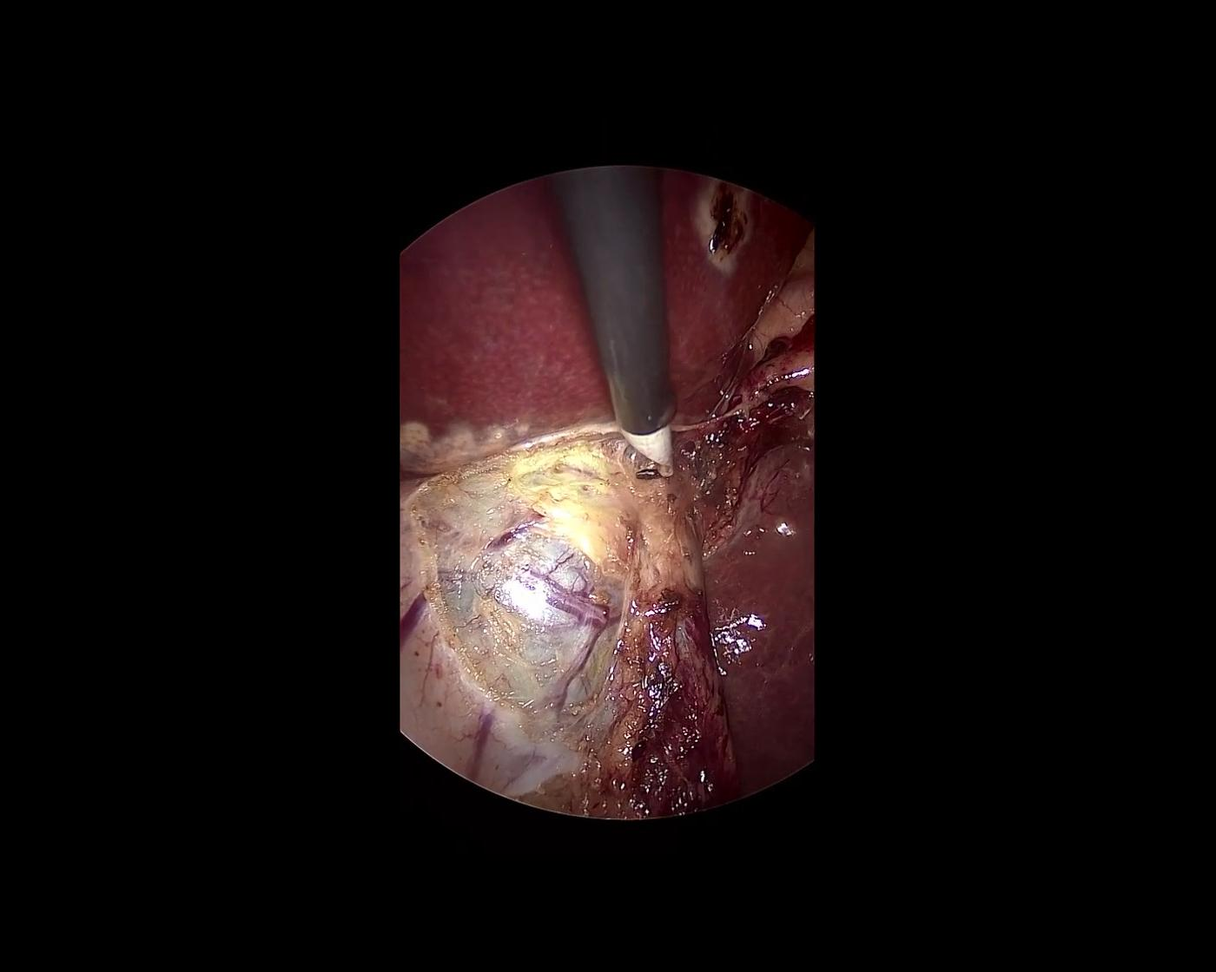Cautery: (549, 163, 684, 486)
Gallbladder: (363, 416, 743, 850)
Liver: (342, 120, 842, 481), (705, 440, 814, 795)
